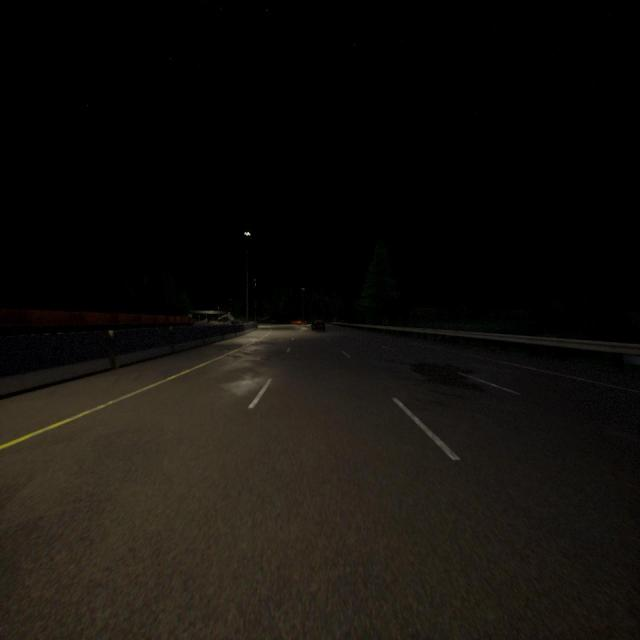Vehicle: (312, 321, 325, 332)
